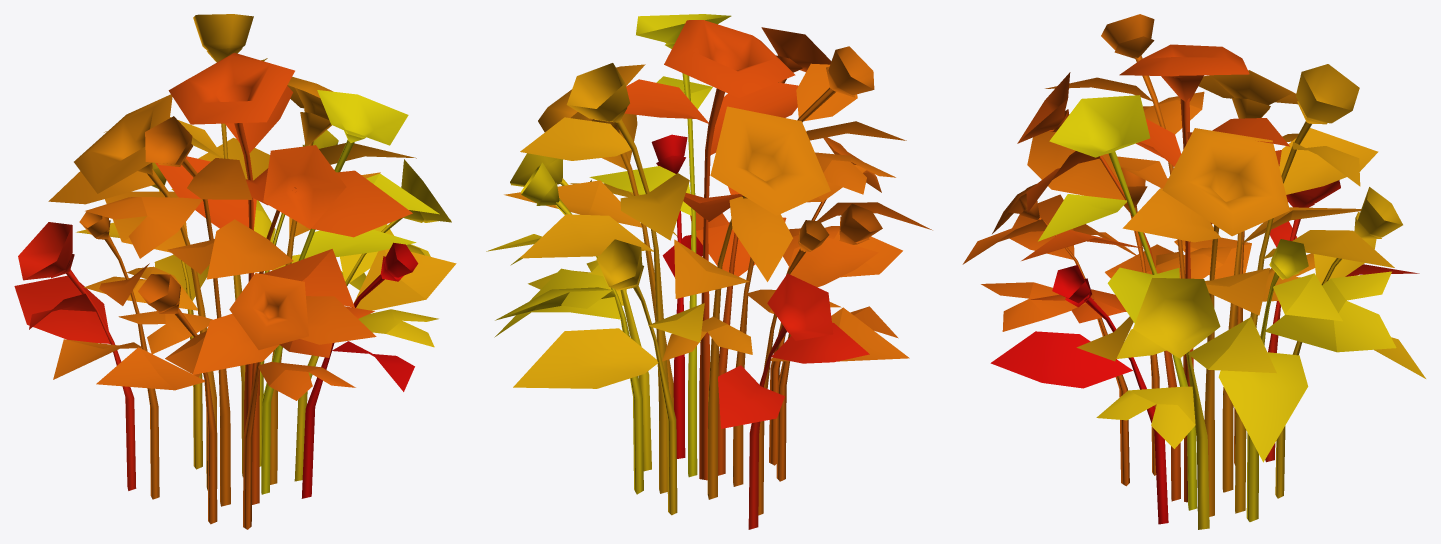
File: G_BlueFlower_004_S1.FBX
3 views of the same model, side by side, from view 1: azimuth 30°, elevation 25°; view 2: azimuth 150°, elevation 25°; view 3: azimuth 270°, elevation 25° (orthographic). The views are drawn at different scales.
Visible parts, largest first — view 1: G_BlueFlower_004_S1_P01_LOD0; view 2: G_BlueFlower_004_S1_P01_LOD0; view 3: G_BlueFlower_004_S1_P01_LOD0.
Part boxes in pixels (bbox=[...]): G_BlueFlower_004_S1_P01_LOD0: bbox=[14, 14, 456, 529]; G_BlueFlower_004_S1_P01_LOD0: bbox=[486, 14, 932, 529]; G_BlueFlower_004_S1_P01_LOD0: bbox=[962, 14, 1425, 529].
Size of what is drawn, in the model's own units: 178 by 189 by 177.
